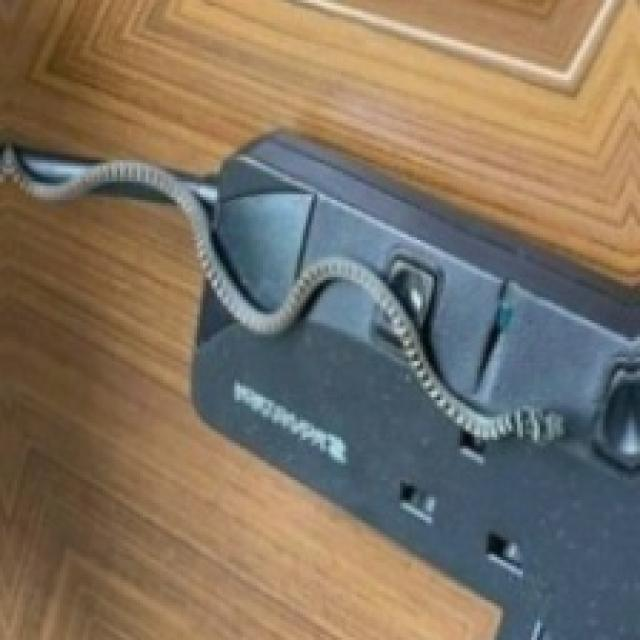paradise tree snake: (0, 183, 497, 637), (0, 146, 563, 440)
